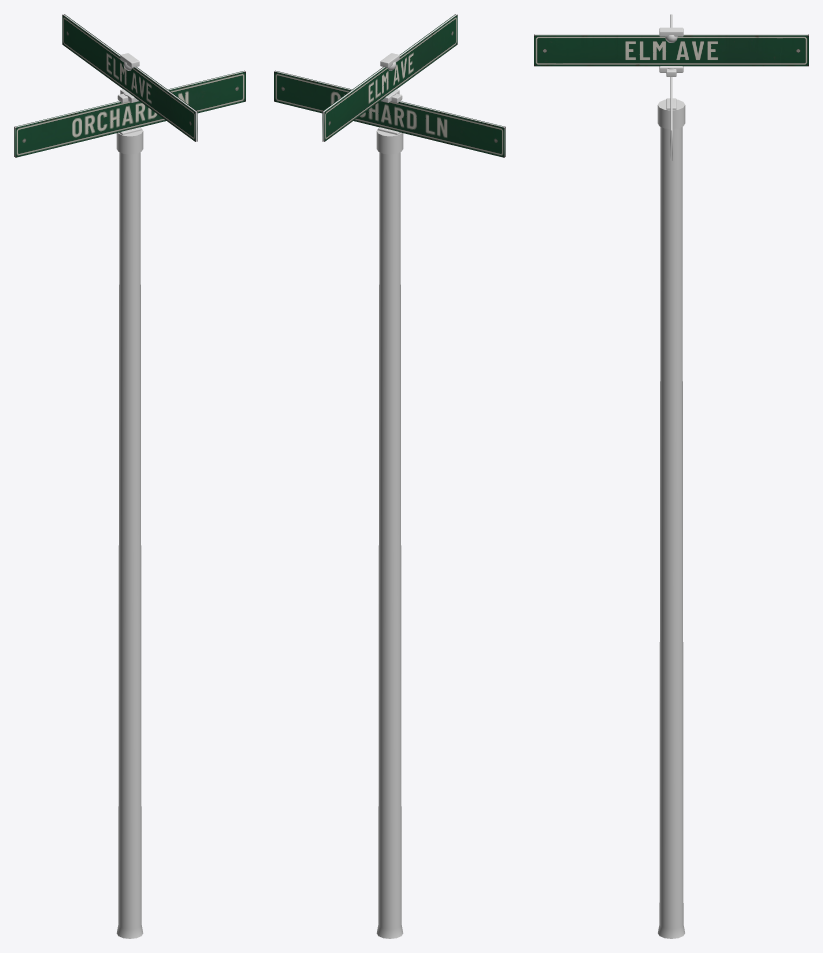
The model's file is SM_Sign_Street_Orchard_Elm.fbx.
The picture shows the model from 3 angles, left to right: view 1: azimuth 30°, elevation 25°; view 2: azimuth 150°, elevation 25°; view 3: azimuth 270°, elevation 25°; orthographic projection. The views are drawn at different scales.
Visible parts, largest first — view 1: SM_Sign_Street_Orchard_Elm_1; view 2: SM_Sign_Street_Orchard_Elm_1; view 3: SM_Sign_Street_Orchard_Elm_1.
Part boxes in pixels (x1,y1,x2,y2): SM_Sign_Street_Orchard_Elm_1: [14, 14, 245, 938]; SM_Sign_Street_Orchard_Elm_1: [274, 14, 505, 938]; SM_Sign_Street_Orchard_Elm_1: [534, 14, 808, 938].
Bounding box in the file's own units: 80 × 290 × 80.
